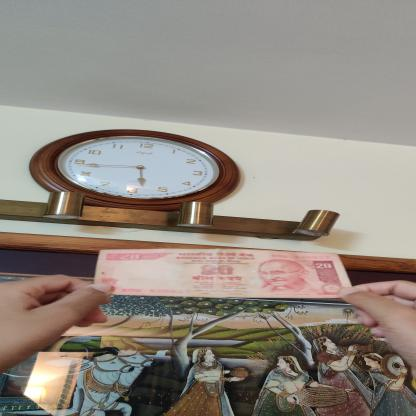Old20Front: (93, 248, 352, 298)
